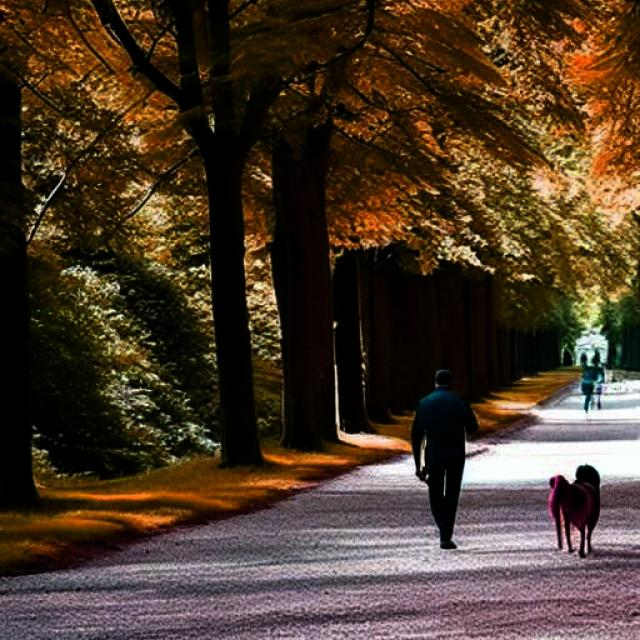Unleashed_Dog: (428, 462, 600, 557)
